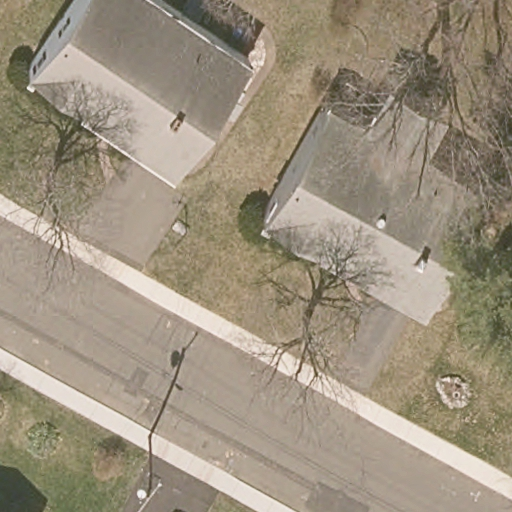DT: (134, 434, 163, 512)
